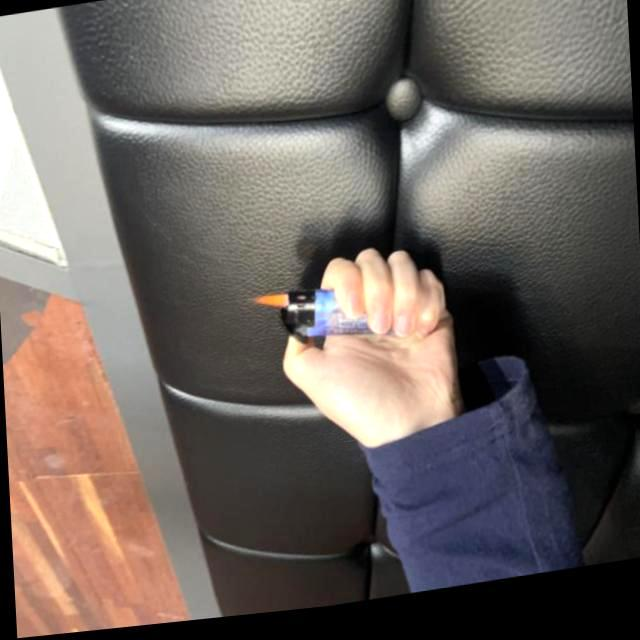fire: (248, 297, 288, 319)
